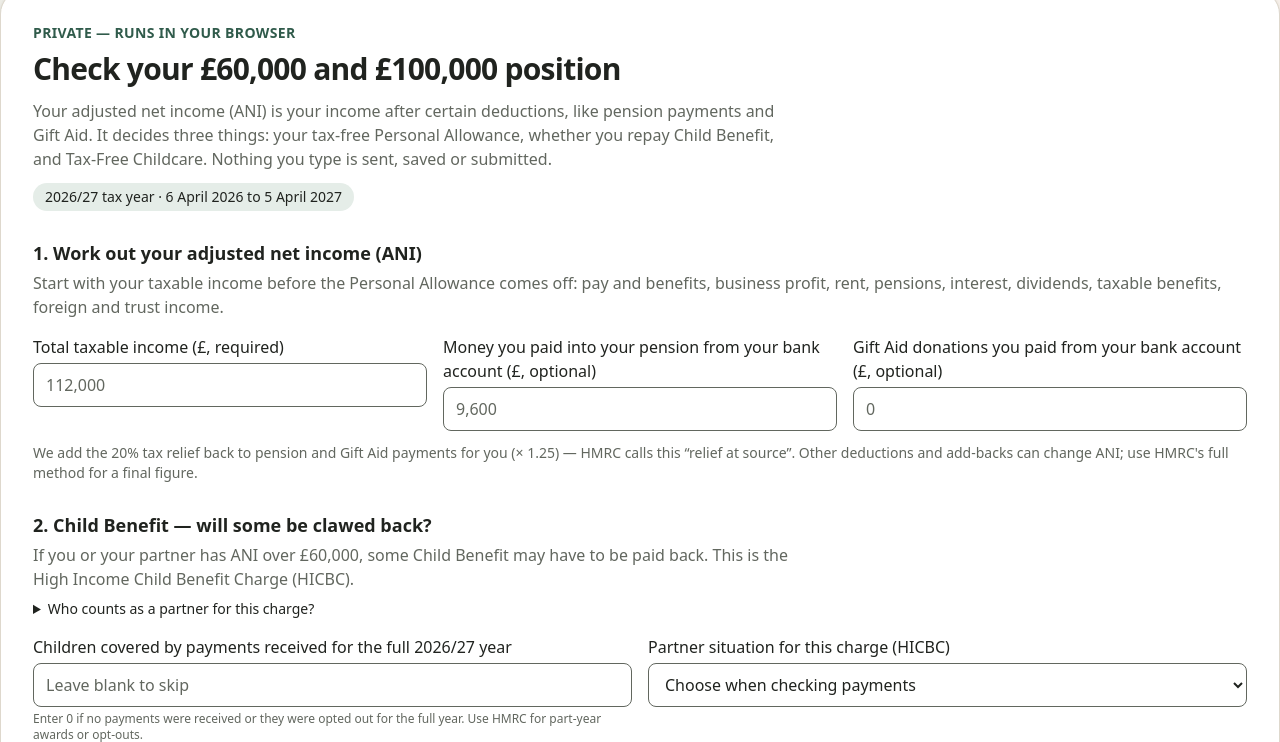
Scenario: personal ANI threshold check › requires the relevant statutory partner answer only when a family check is requested
Type "90000" into the field labelled "Total taxable income (£, required)".
click(230, 385); type("90000")  # box [33,363,427,407]
(page scrolled)
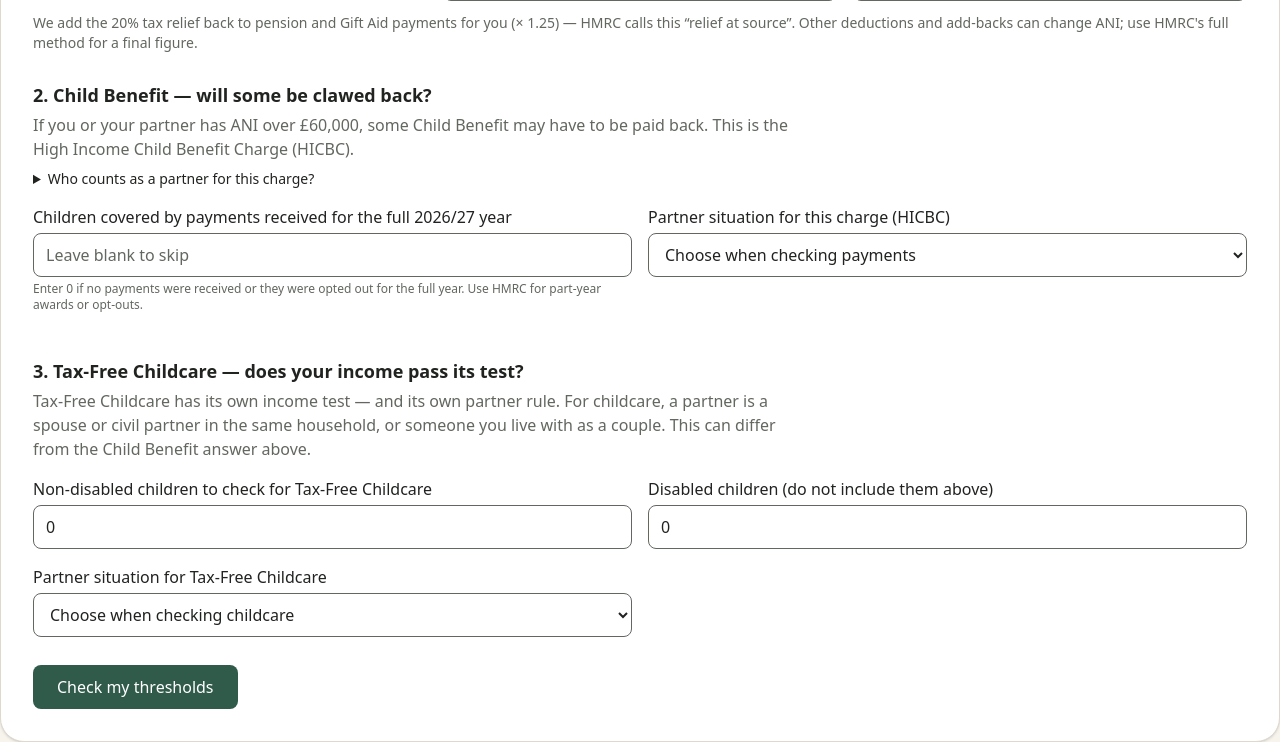
Replace the text in the number field labelled "Non-disabled children to check for Tax-Free Childcare" with "1" at point(332, 527), box [33,505,632,549]
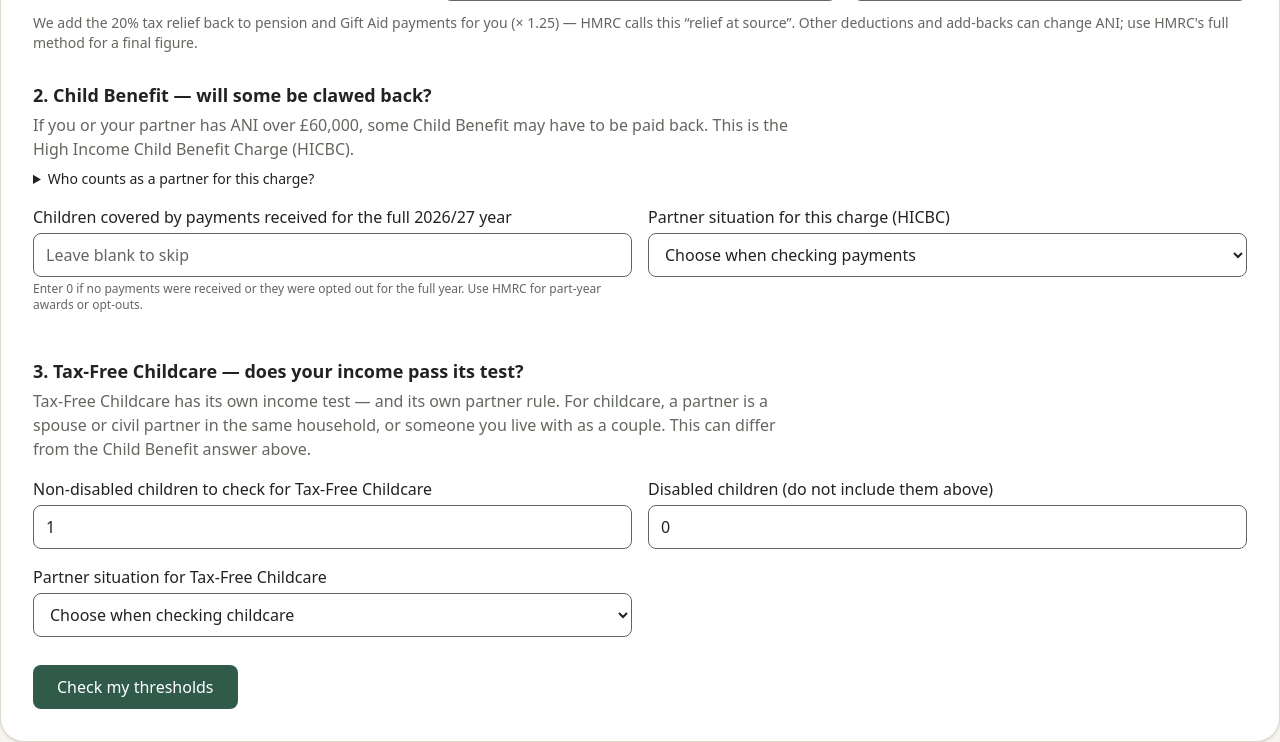
Click the button "Check my thresholds".
click(135, 687)  # box [33,665,238,709]
(page scrolled)
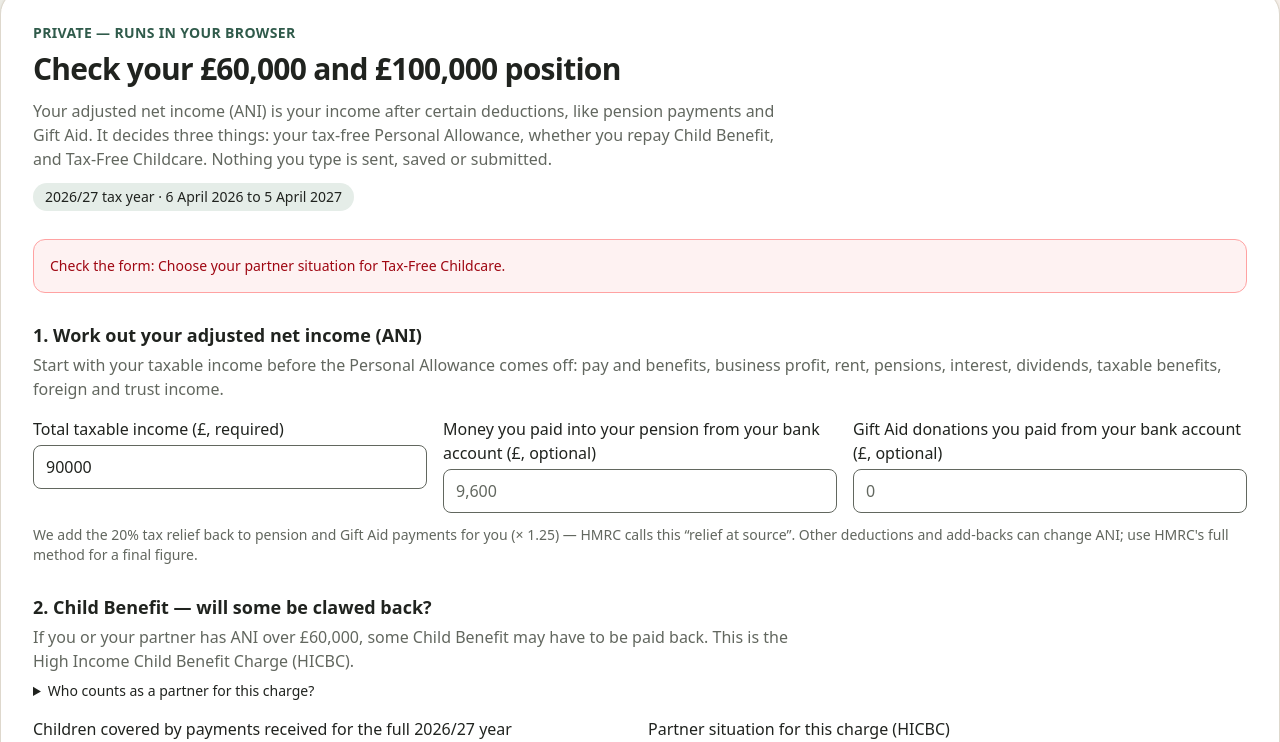
Check: the text "Check the form: Choose your partner situation for Tax-Free Childcare." is shown, box [33,239,1247,293]
